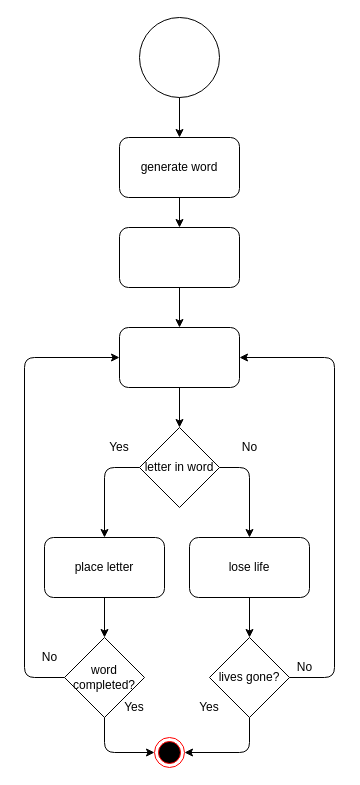
Image size: 360x785. Some labels were removed from this diagram. Here are the shapes that lost their labels. From the top down, the box of each, then its label:
(138, 16, 220, 98): start
(118, 226, 240, 288): generate blanks for each letter
(118, 326, 240, 388): ask user to select letter
